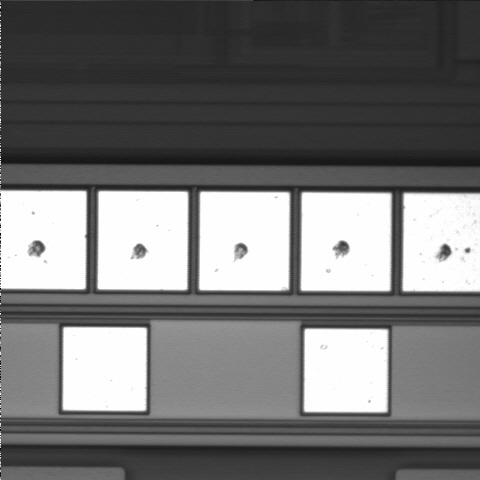pad: (199, 192, 290, 291), (98, 191, 188, 290), (301, 193, 391, 291), (63, 327, 147, 411), (304, 329, 388, 412)
